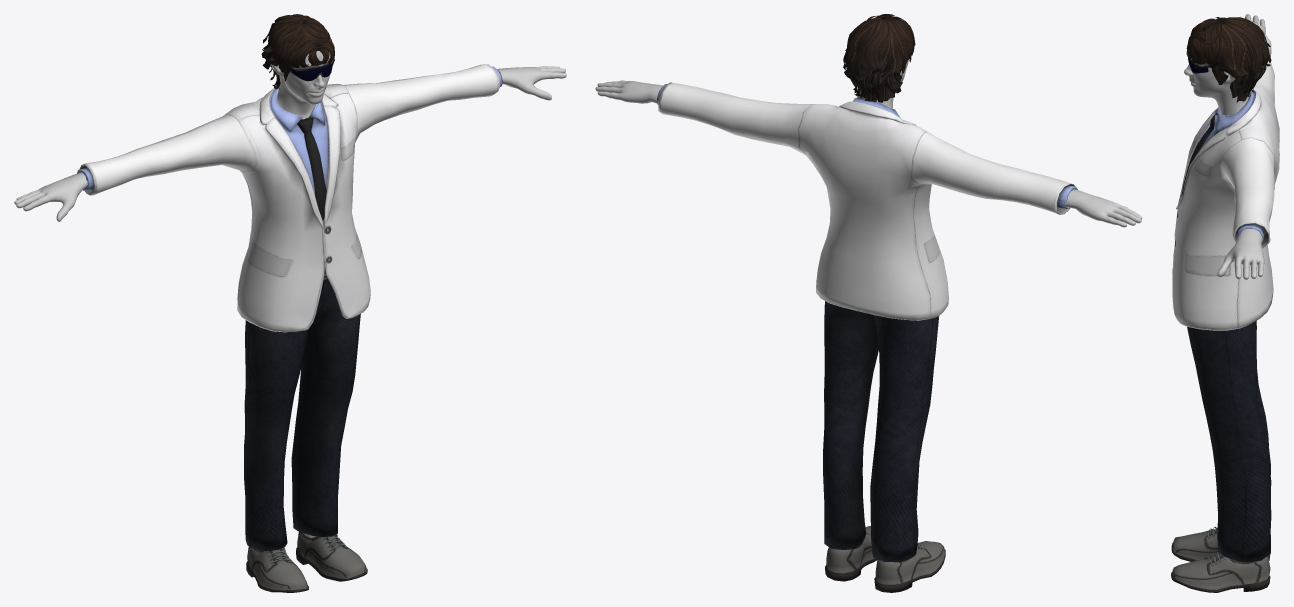
File: Scientist Male 1.obj
The picture shows the model from 3 angles, left to right: view 1: azimuth 30°, elevation 25°; view 2: azimuth 150°, elevation 25°; view 3: azimuth 270°, elevation 25°; orthographic projection.
Visible parts, largest first — view 1: Tops, Bottoms, Body, Shoes, Hair; view 2: Tops, Bottoms, Hair, Shoes, Body; view 3: Tops, Bottoms, Hair, Shoes, Body, Eyewear.
Part boxes in pixels (left/top/right/bottom): Tops: left=77, top=64, right=502, bottom=332; Bottoms: left=244, top=267, right=360, bottom=551; Body: left=14, top=51, right=566, bottom=537; Shoes: left=246, top=532, right=367, bottom=592; Hair: left=261, top=14, right=334, bottom=89; Tops: left=656, top=82, right=1077, bottom=320; Bottoms: left=823, top=301, right=939, bottom=562; Hair: left=843, top=14, right=915, bottom=102; Shoes: left=825, top=526, right=945, bottom=592; Body: left=595, top=60, right=1142, bottom=227; Tops: left=1172, top=34, right=1279, bottom=330; Bottoms: left=1187, top=320, right=1271, bottom=562; Hair: left=1186, top=17, right=1271, bottom=102; Shoes: left=1171, top=527, right=1270, bottom=592; Body: left=1184, top=14, right=1265, bottom=279; Eyewear: left=1186, top=51, right=1210, bottom=73.
Bounding box in the file's own units: 187 × 181 × 32.31.
